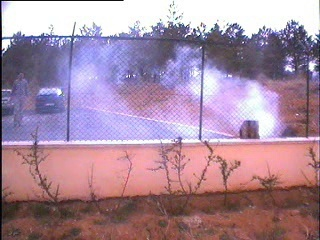smoke: (157, 40, 286, 137)
